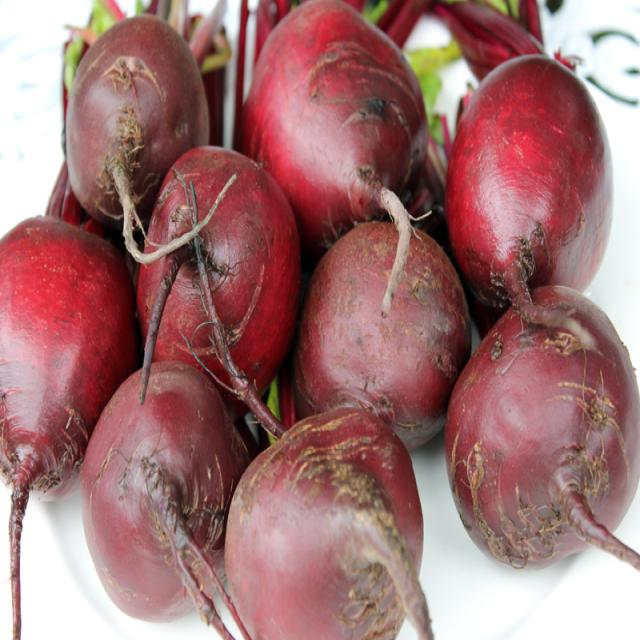Beetroot: (438, 276, 638, 630), (234, 7, 443, 290), (439, 26, 617, 352), (0, 201, 132, 640), (73, 352, 254, 638), (228, 401, 436, 640), (138, 141, 318, 401), (284, 197, 468, 446), (40, 0, 204, 269)
